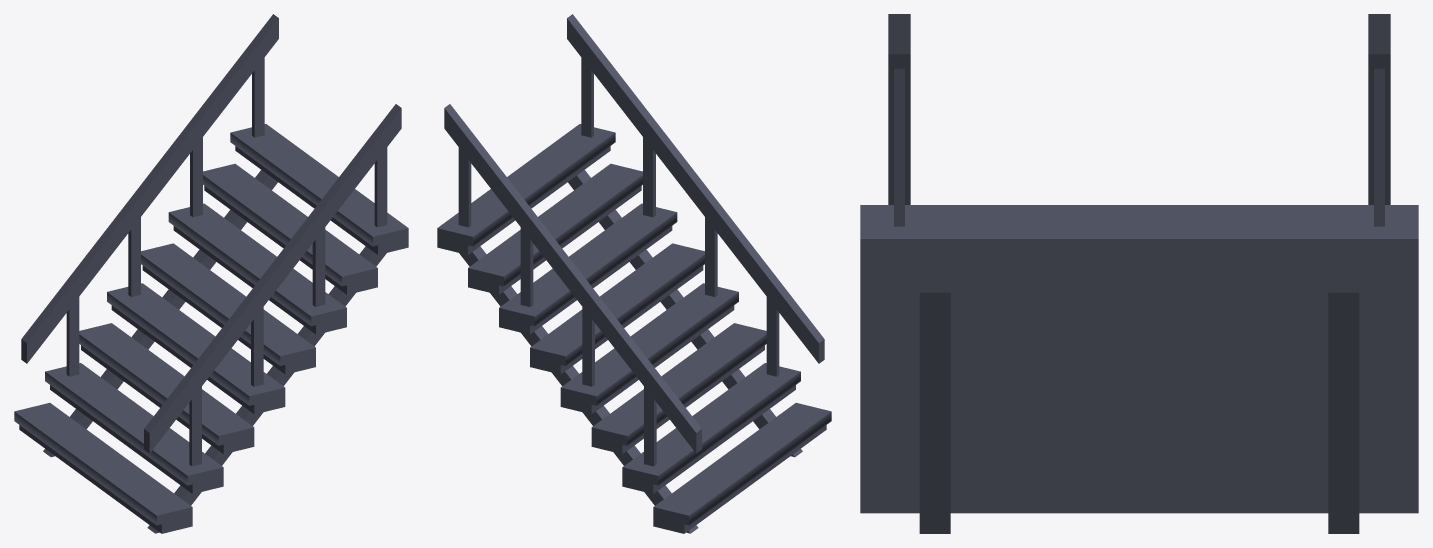
File: stairs-wide-wood-handrail.glb
The picture shows the model from 3 angles, left to right: view 1: azimuth 30°, elevation 25°; view 2: azimuth 150°, elevation 25°; view 3: azimuth 270°, elevation 25°; orthographic projection. The views are drawn at different scales.
Visible parts, largest first — view 1: stairs-wide-wood-handrail; view 2: stairs-wide-wood-handrail; view 3: stairs-wide-wood-handrail.
Part boxes in pixels (x1,y1,x2,y2): stairs-wide-wood-handrail: (14, 14, 408, 533); stairs-wide-wood-handrail: (437, 14, 831, 533); stairs-wide-wood-handrail: (860, 14, 1418, 533).
Size of the model in its own units: 1.02 by 1.45 by 1.
1 material, 1 textured.
